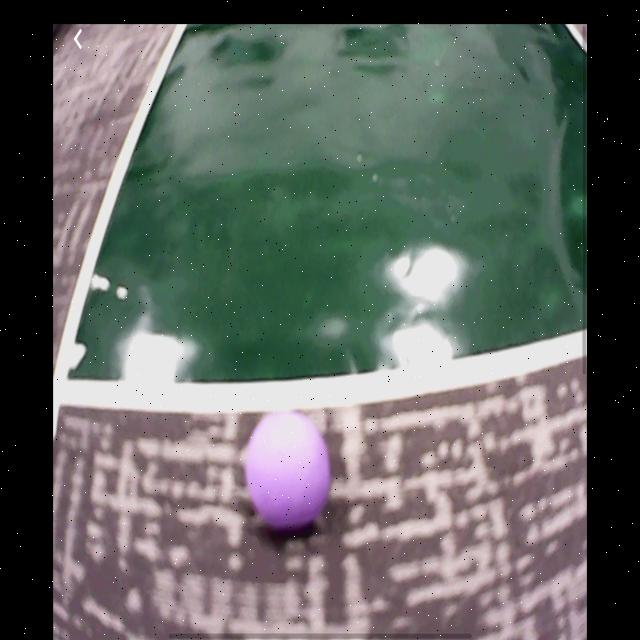ball: (243, 409, 332, 532)
